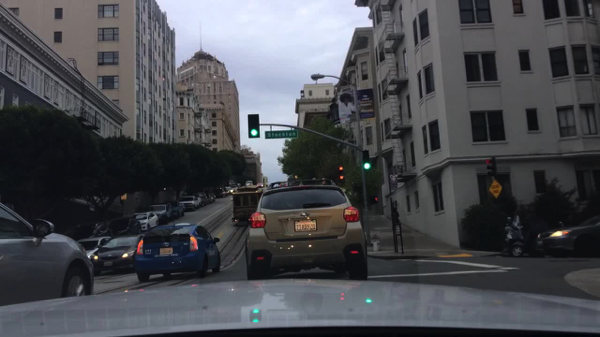bus: (234, 184, 264, 223)
car: (245, 179, 369, 280), (1, 204, 95, 306), (134, 223, 221, 280), (537, 216, 599, 256), (90, 235, 144, 274), (72, 223, 111, 244), (76, 237, 109, 258), (109, 218, 139, 235), (133, 212, 158, 230), (148, 204, 170, 220), (181, 197, 198, 209), (191, 194, 204, 205), (199, 192, 212, 201), (205, 193, 216, 202), (214, 188, 225, 197), (226, 186, 233, 195), (230, 184, 239, 191), (247, 180, 253, 185)
motor: (503, 212, 532, 257)
traffic light: (249, 114, 258, 138), (485, 158, 496, 176), (362, 150, 371, 170), (368, 195, 378, 205), (338, 176, 344, 181), (338, 167, 343, 172)
traffic sign: (266, 130, 297, 139), (487, 180, 501, 198)
truck: (165, 200, 184, 218)
